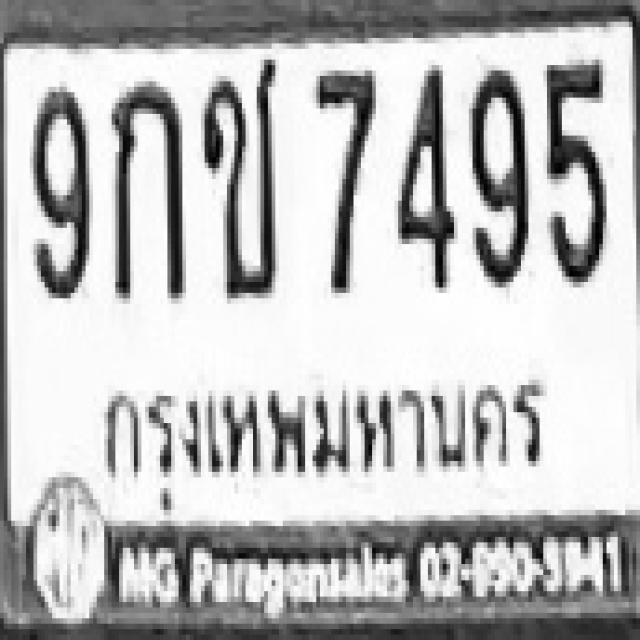10GorGai: (108, 76, 182, 298)
19ChorChang: (201, 54, 275, 293)
4: (394, 62, 454, 290)
5: (543, 57, 607, 285)
7: (312, 65, 376, 293)
9: (469, 65, 528, 288), (30, 84, 89, 296)
Bangkok: (85, 365, 555, 489)
